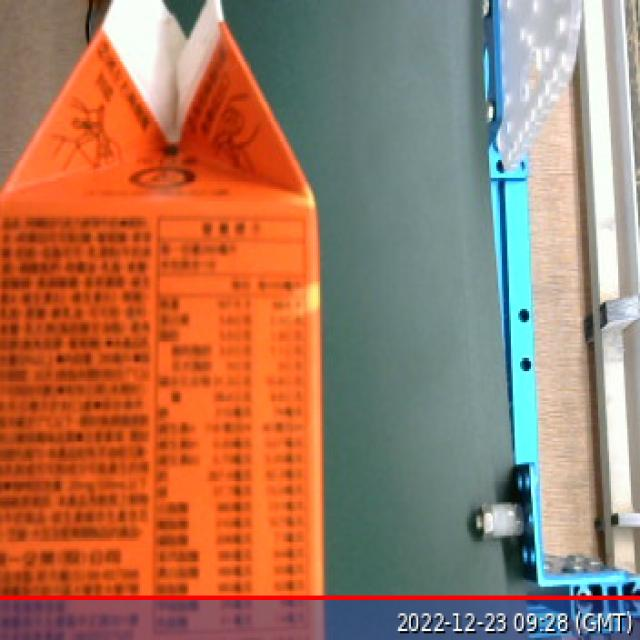non_white_jug: (0, 1, 336, 640)
